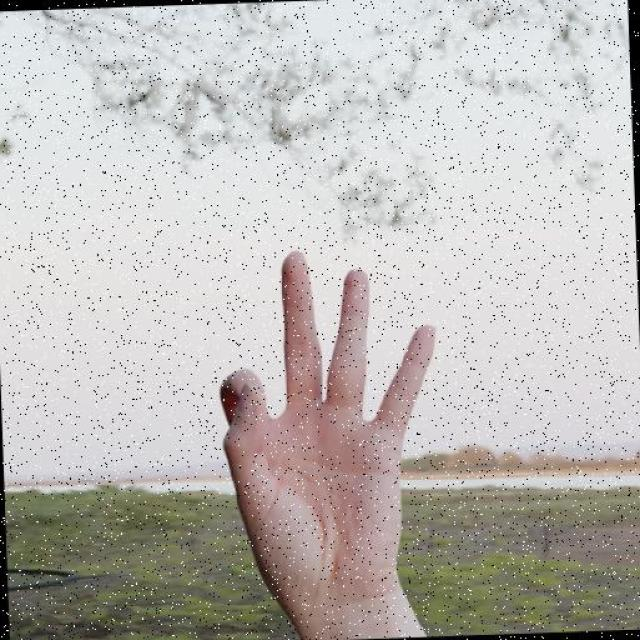F: (215, 243, 449, 617)
